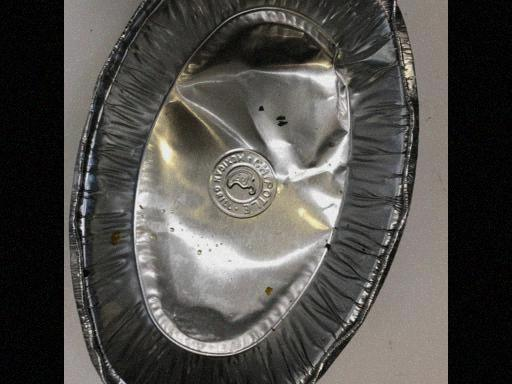metal: (24, 6, 419, 381)
